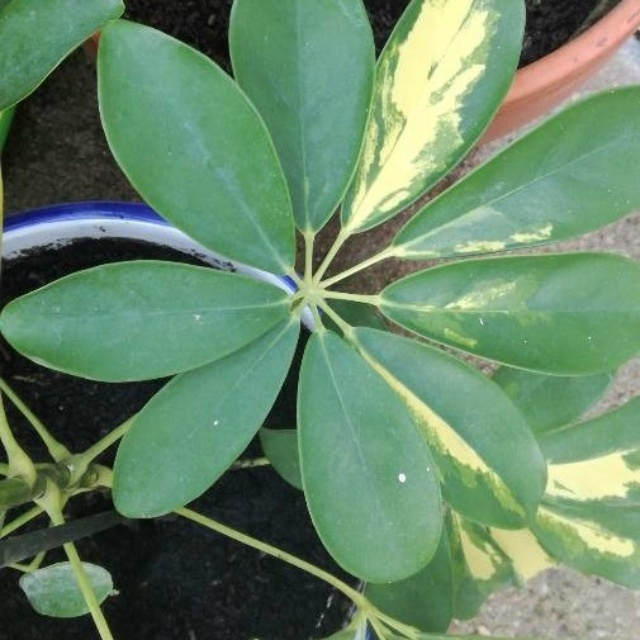obstacle: (30, 25, 629, 582)
